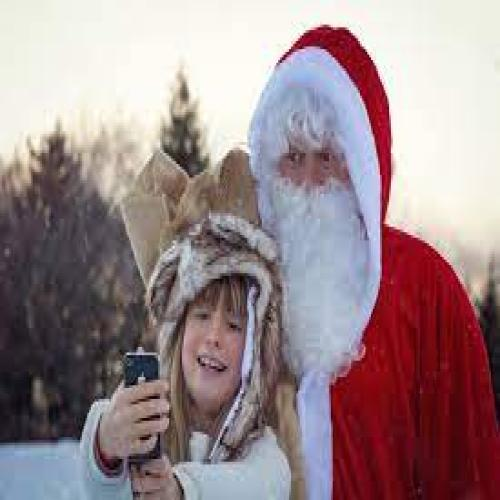Santa: (246, 22, 498, 497)
